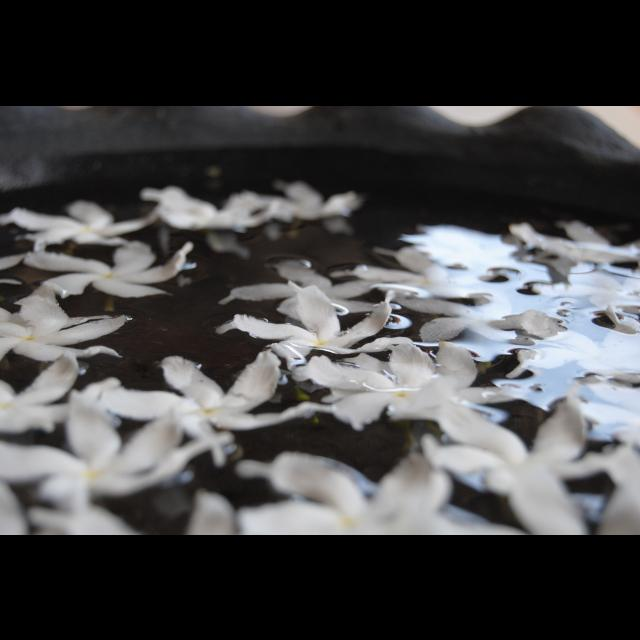Flower: (1, 180, 640, 534)
